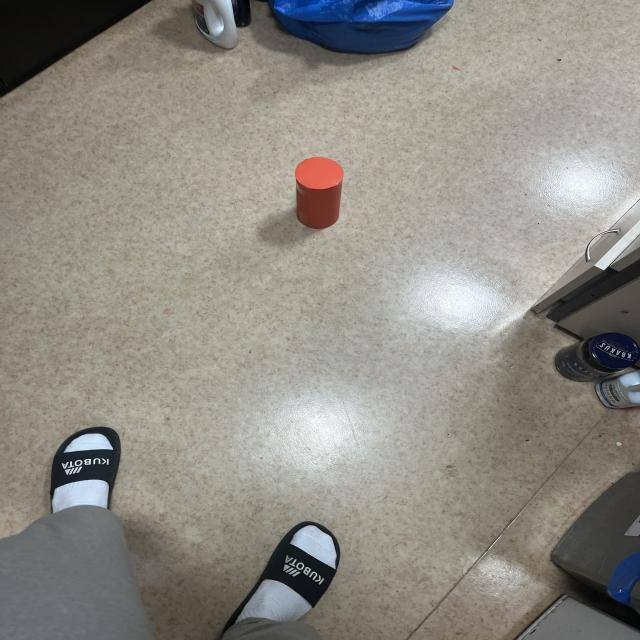przeszkoda: (294, 157, 344, 229)
